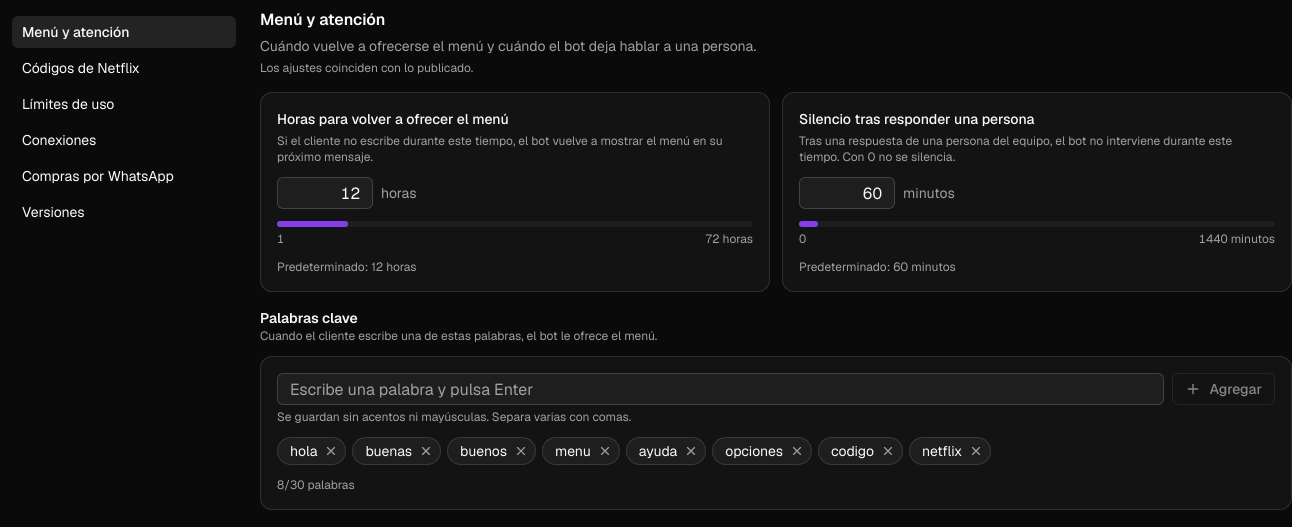
it: ajustes › marca en el índice la sección con cambios sin publicar
Type "promo" into the field named "Nueva palabra clave". click: (721, 389)
box: [277,373,1164,405]
Then press Enter
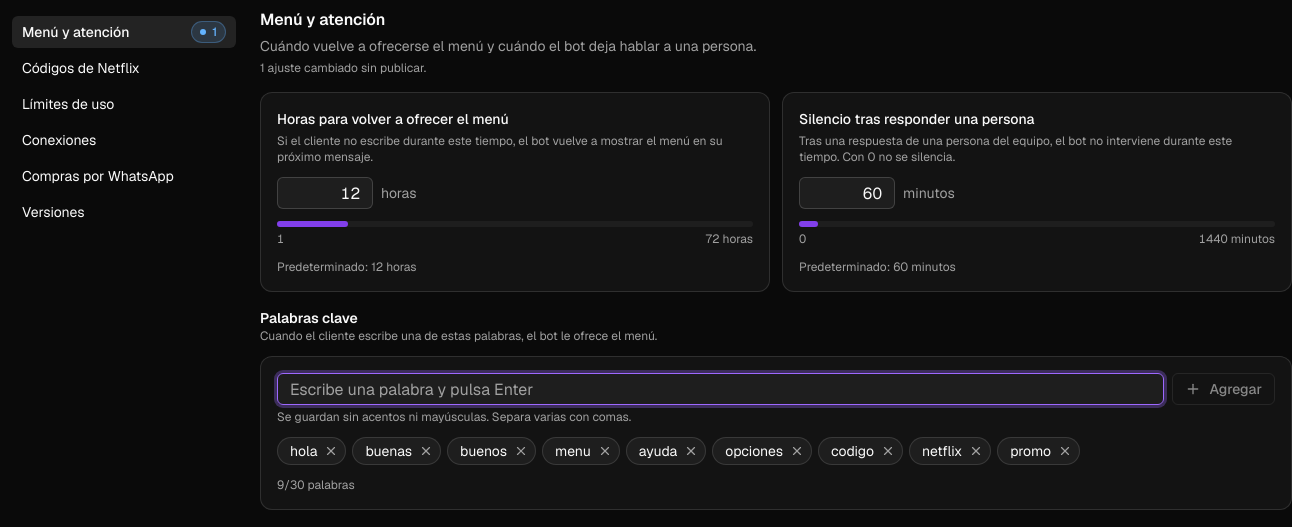
Check: the element named "1 cambios sin publicar" is shown, box [191,21,226,43]
